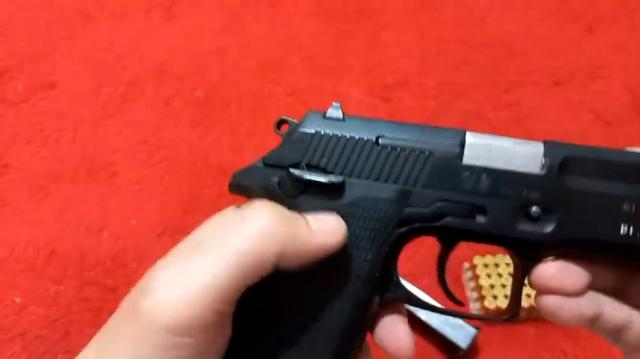pistol: (238, 118, 640, 358)
